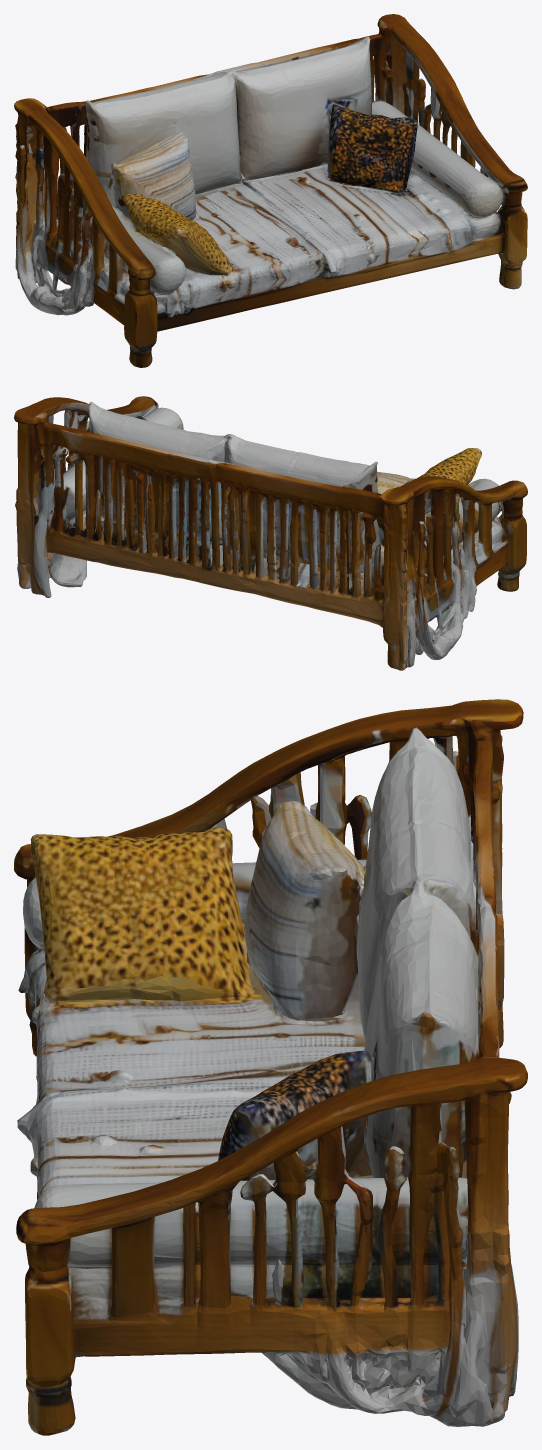
The model's file is c07_daybed_s0.glb.
3 renders of one model, top to bottom at view 1: azimuth 30°, elevation 25°; view 2: azimuth 150°, elevation 25°; view 3: azimuth 270°, elevation 25°, orthographic. The views are drawn at different scales.
Parts seen in each view (by area): view 1: textured.obj; view 2: textured.obj; view 3: textured.obj.
Boxes of the visible parts, bbox=[...] form: textured.obj: bbox=[14, 14, 527, 367]; textured.obj: bbox=[14, 396, 527, 670]; textured.obj: bbox=[14, 699, 527, 1435].
Bounding box in the file's own units: 1.98 × 0.9218 × 1.11.
Materials: 1 (1 with a texture image).
